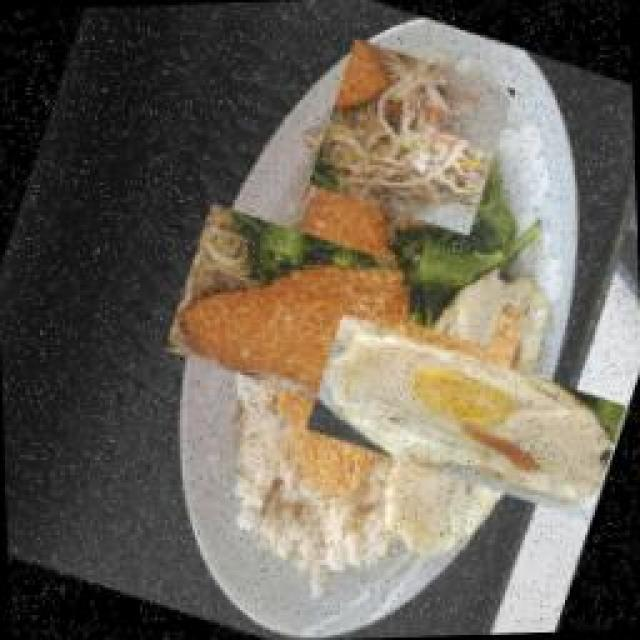fried_chicken: (185, 165, 508, 488)
fried_eggs: (327, 280, 605, 558)
mung_bean_sprouts: (308, 33, 521, 246)
rice: (232, 460, 390, 578)
water_spinach: (380, 180, 538, 353)
